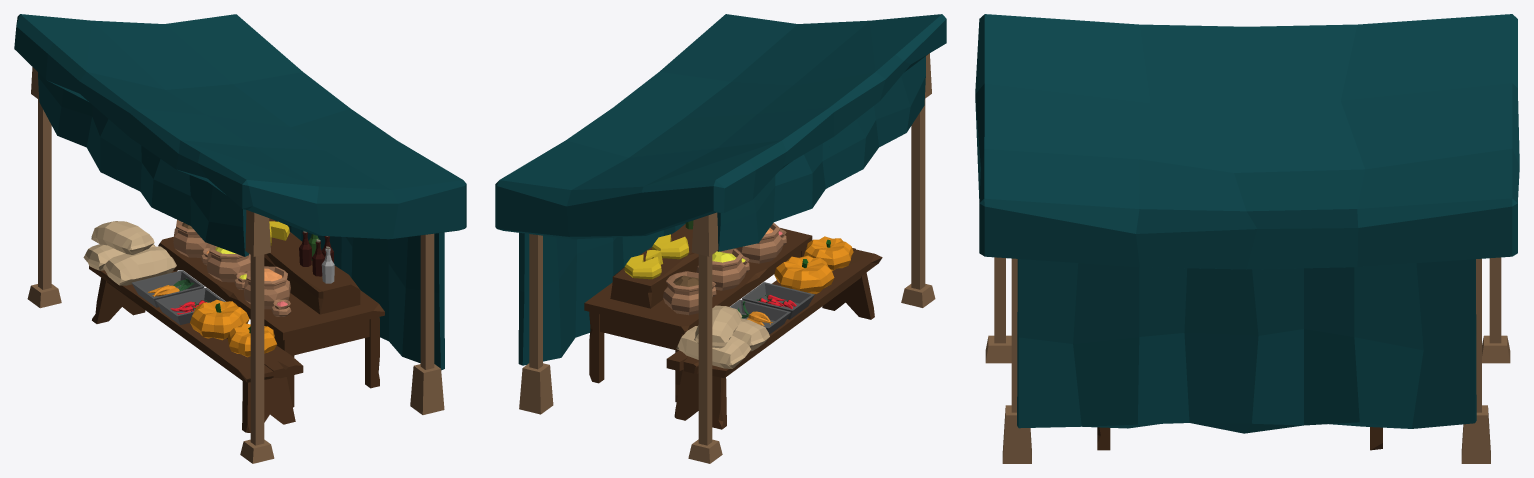
Rendered from vege_shop.fbx.
3 renders of one model, left to right at view 1: azimuth 30°, elevation 25°; view 2: azimuth 150°, elevation 25°; view 3: azimuth 270°, elevation 25°, orthographic. The views are drawn at different scales.
Parts seen in each view (by area): view 1: vege_shop; view 2: vege_shop; view 3: vege_shop.
Part boxes in pixels (<box>): vege_shop: <box>14,14,466,463</box>; vege_shop: <box>495,14,946,463</box>; vege_shop: <box>975,14,1519,463</box>.
Size of the model in its own units: 203 by 239 by 354.
